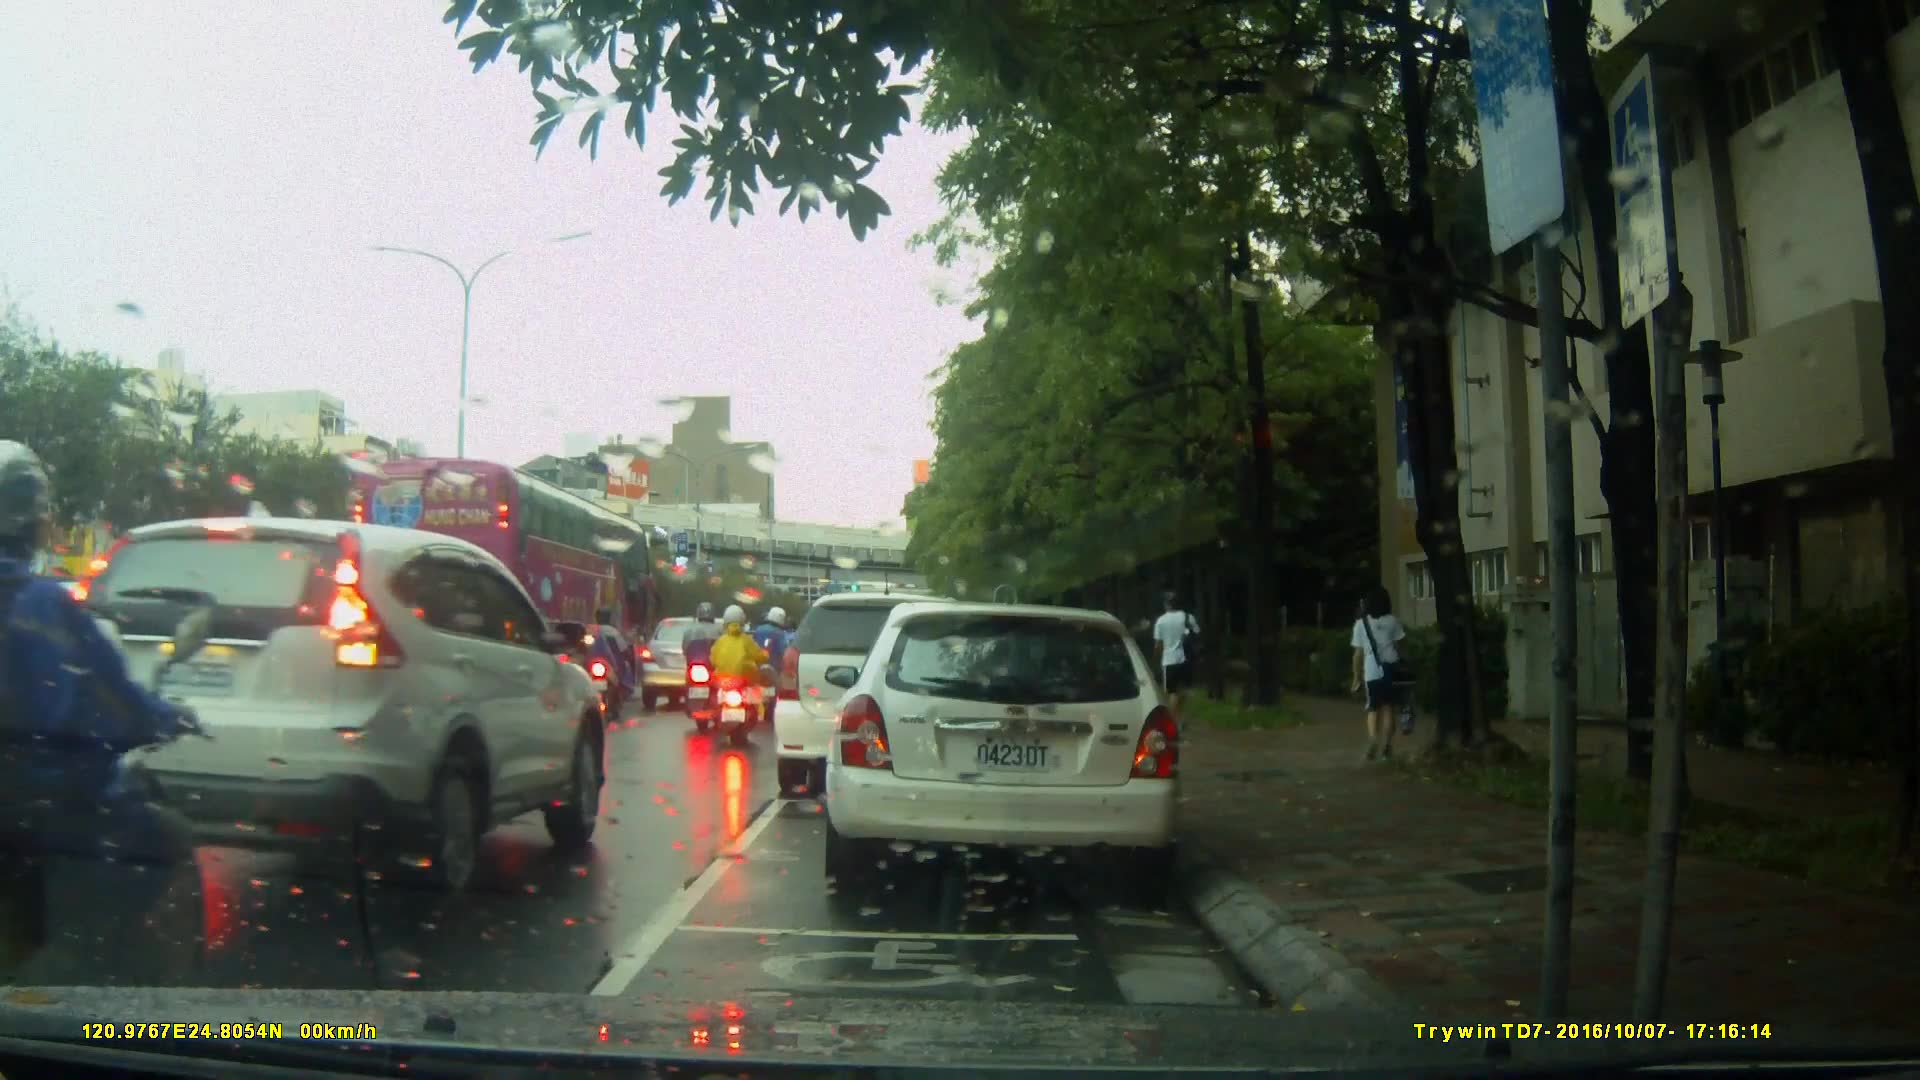pedestrian: (1335, 581, 1420, 780), (1150, 588, 1201, 729)
rider: (1, 471, 205, 1059), (705, 603, 760, 750), (674, 596, 728, 728), (574, 605, 639, 712), (750, 605, 800, 715)
vehicle: (30, 508, 600, 932), (835, 594, 1194, 898), (338, 458, 661, 691), (776, 590, 1026, 784), (640, 616, 755, 705)
